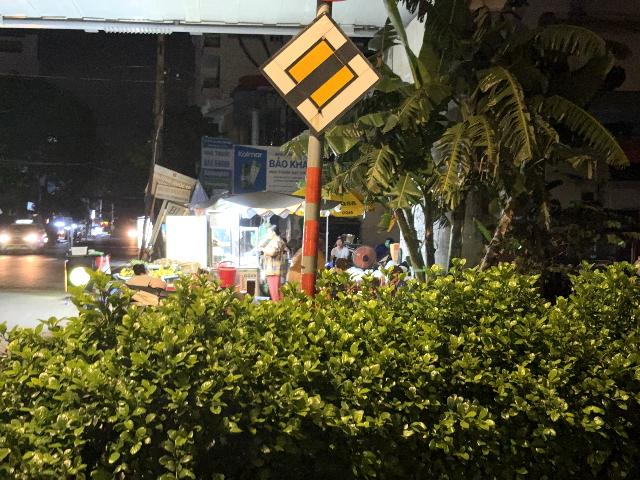het-duong-uu-tien: (259, 10, 384, 138)
